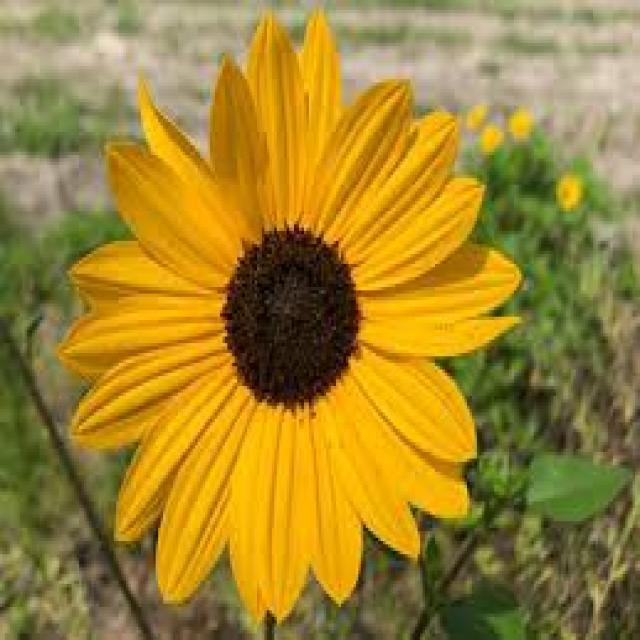sunflower: (62, 9, 529, 628)
